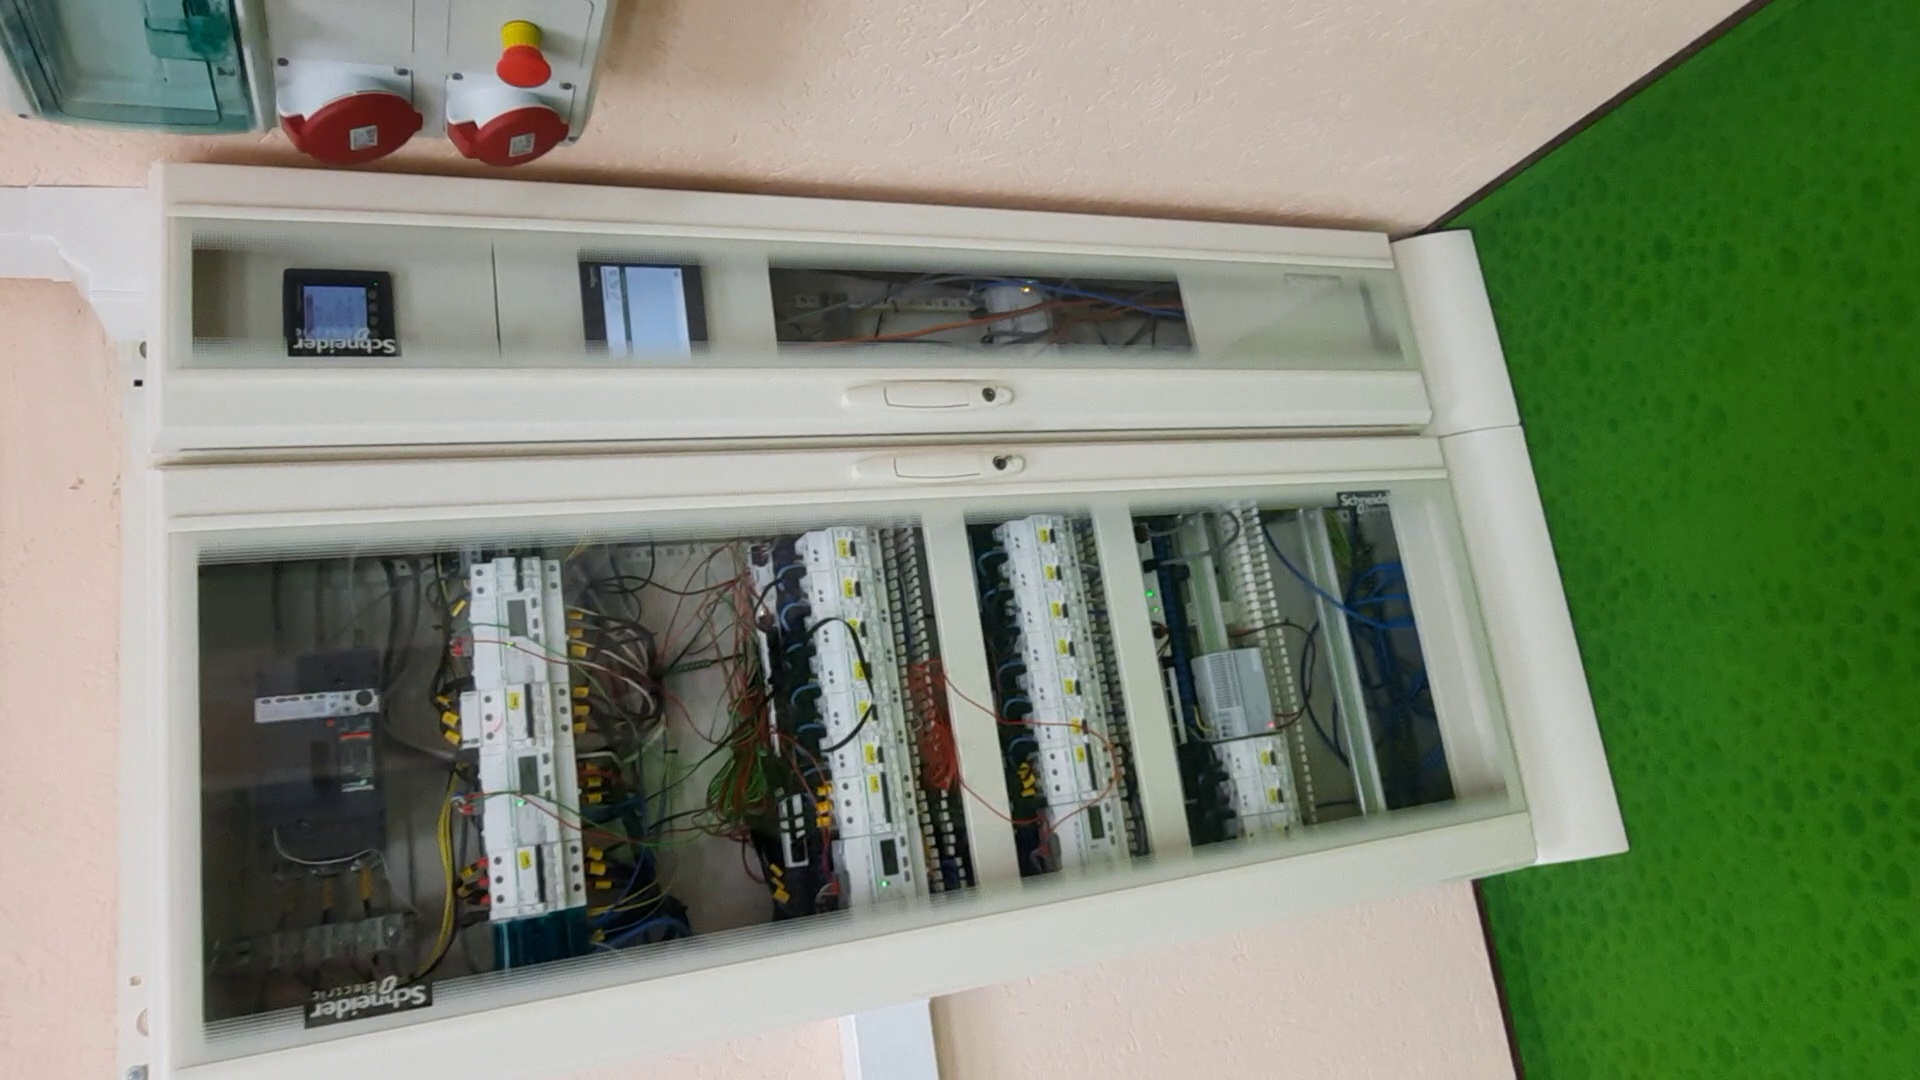stand1: (129, 167, 1627, 1044)
